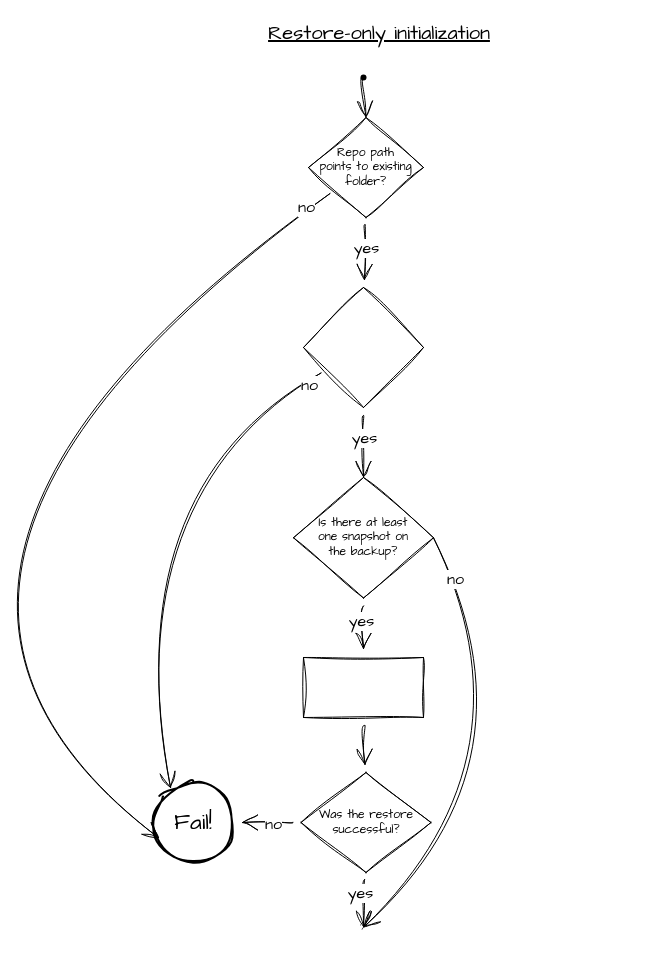
This 667x955 diagram has some shape labels left out. Here are the shapes that lost their labels. From the top down, the centre of each, then its label:
the point at 363,347: `restic cat info` returns 0?
the point at 363,687: Try to restore the latest snapshot
